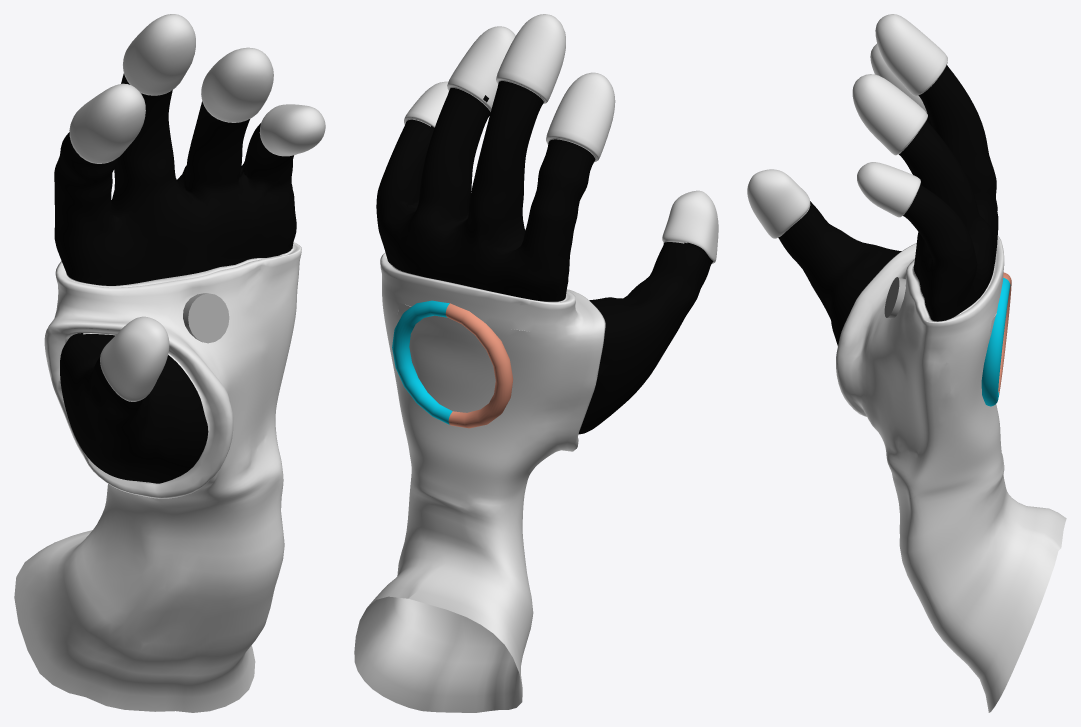
File: Hand FBX.fbx
The picture shows the model from 3 angles, left to right: view 1: azimuth 30°, elevation 25°; view 2: azimuth 150°, elevation 25°; view 3: azimuth 270°, elevation 25°; orthographic projection. The views are drawn at different scales.
Parts seen in each view (by area): view 1: group2_pasted__pCube2, pCylinder1; view 2: group2_pasted__pCube2, pTorus1; view 3: group2_pasted__pCube2, pTorus1, pCylinder1.
Part boxes in pixels (x1=…): group2_pasted__pCube2: x1=14, y1=14, x2=325, y2=712; pCylinder1: x1=183, y1=293, x2=229, y2=343; group2_pasted__pCube2: x1=354, y1=14, x2=718, y2=712; pTorus1: x1=392, y1=300, x2=513, y2=428; group2_pasted__pCube2: x1=747, y1=14, x2=1066, y2=712; pTorus1: x1=981, y1=272, x2=1011, y2=406; pCylinder1: x1=884, y1=277, x2=905, y2=319.
Size of the model in its own units: 6.15 by 15.91 by 7.09.
